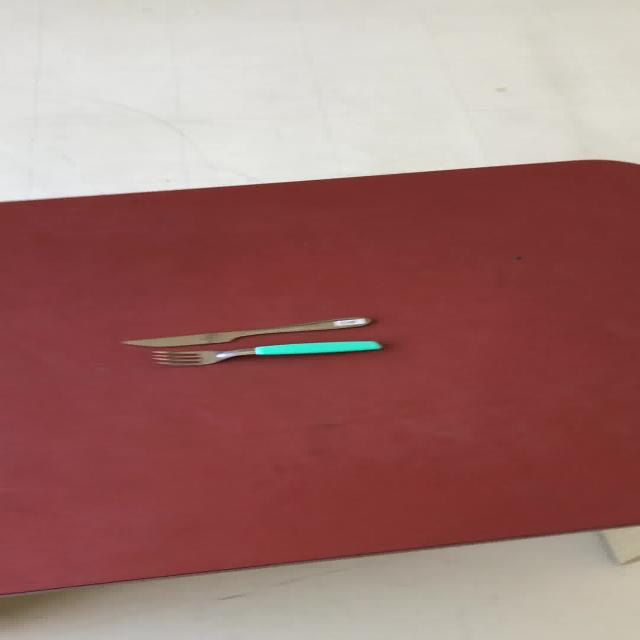fork: (149, 339, 384, 366)
knife fork: (119, 316, 372, 348)
